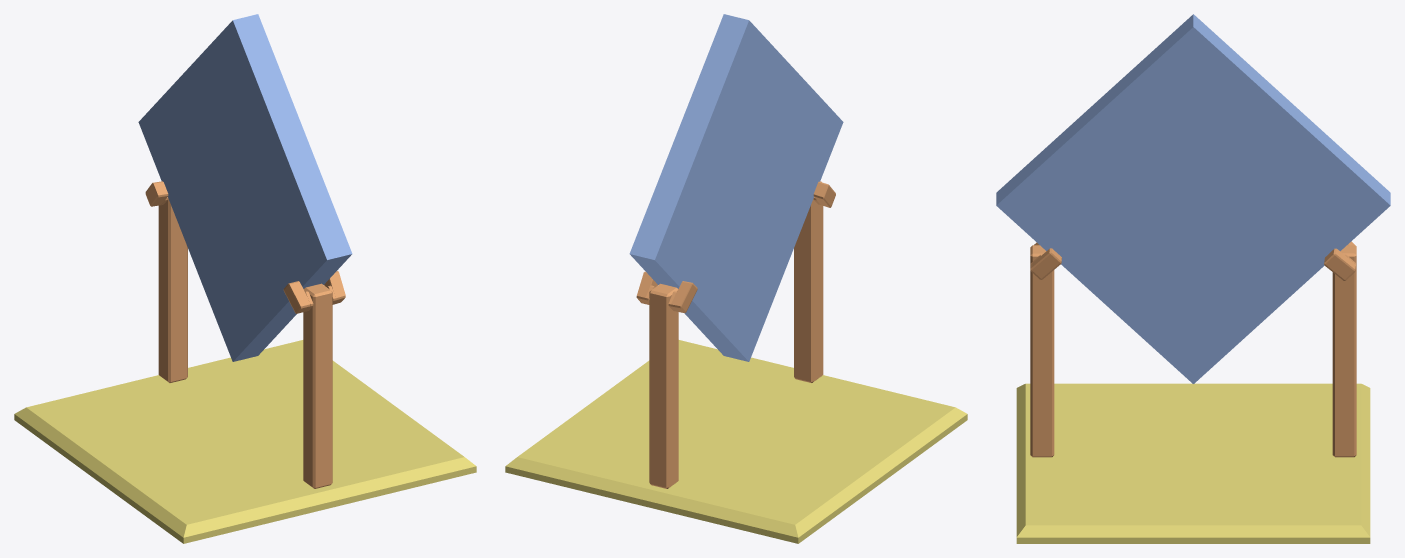
Rendered from Mirror.fbx.
3 renders of one model, left to right at view 1: azimuth 30°, elevation 25°; view 2: azimuth 150°, elevation 25°; view 3: azimuth 270°, elevation 25°, orthographic. The views are drawn at different scales.
Visible parts, largest first — view 1: Base, Mirror, Stand2, Stand1; view 2: Base, Mirror, Stand1, Stand2; view 3: Mirror, Base, Stand1, Stand2.
Boxes of the visible parts, left/top/right/bottom form: Base: left=14, top=340, right=476, bottom=543; Mirror: left=138, top=14, right=352, bottom=361; Stand2: left=283, top=271, right=345, bottom=488; Stand1: left=145, top=181, right=187, bottom=382; Base: left=505, top=340, right=967, bottom=543; Mirror: left=629, top=14, right=843, bottom=361; Stand1: left=636, top=271, right=697, bottom=488; Stand2: left=794, top=181, right=835, bottom=382; Mirror: left=996, top=14, right=1390, bottom=383; Base: left=1016, top=383, right=1370, bottom=543; Stand1: left=1324, top=241, right=1356, bottom=457; Stand2: left=1030, top=242, right=1061, bottom=457.
Bounding box in the file's own units: 92.21 × 129 × 103.
